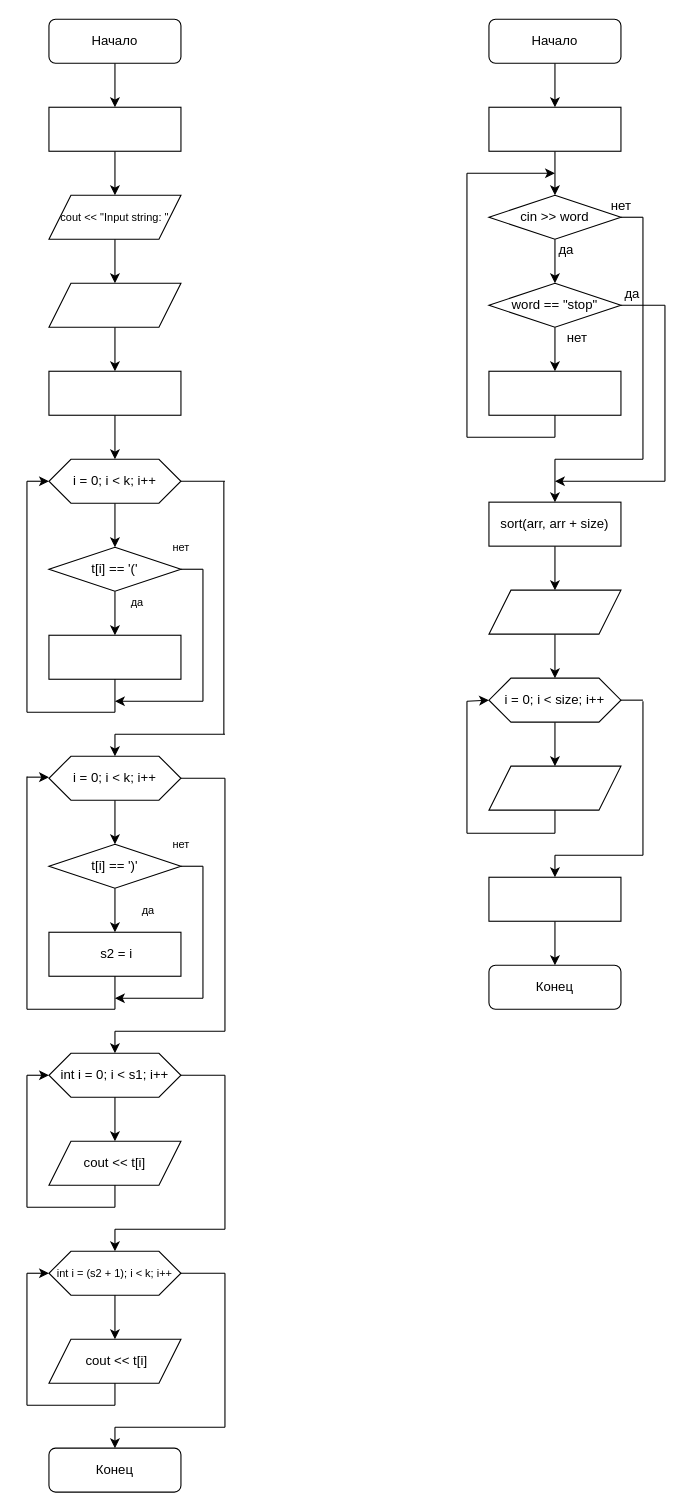
This 693x1511 diagram has some shape labels left out. The centre of each missing label's shape, as x and y in pixels:
arr[size++] = word: (x=554, y=392)
cin >> t: (x=114, y=304)
cout << arr[i] << " ": (x=554, y=787)
cout << endl: (x=554, y=611)
k = strlen(t): (x=114, y=392)
return 0: (x=554, y=898)
s1 = i: (x=114, y=656)
size = 0: (x=554, y=128)
t[200], s1 = '(', s2 = ')': (x=114, y=128)
